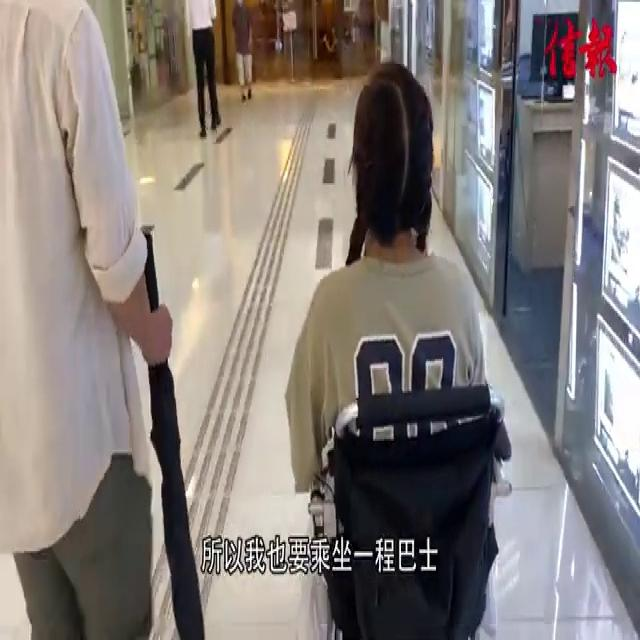wheelchairs: (290, 368, 524, 640)
